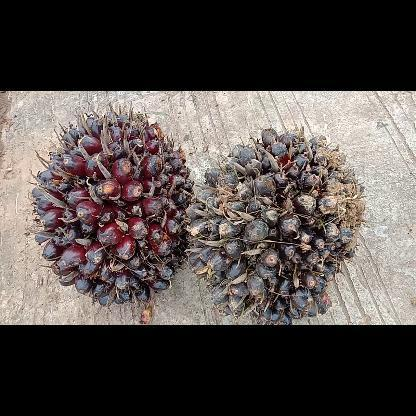TBS mentah: (182, 126, 367, 324), (30, 108, 198, 310)
